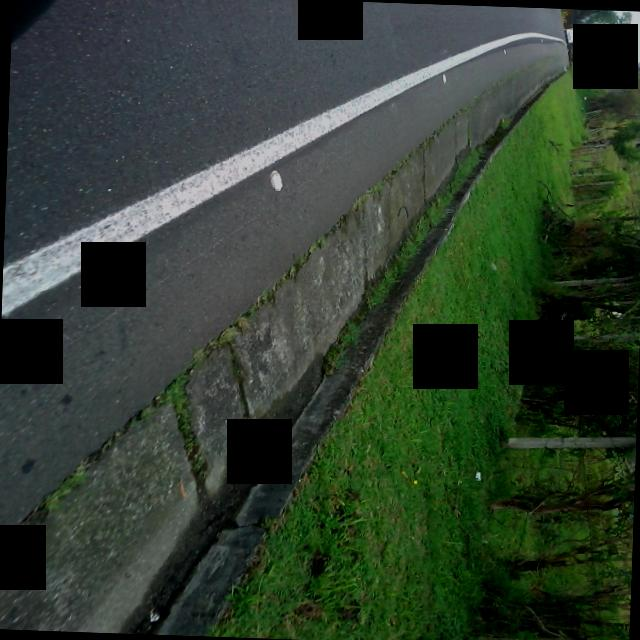DITCH: (0, 0, 582, 640), (0, 0, 544, 640), (0, 31, 569, 640)
